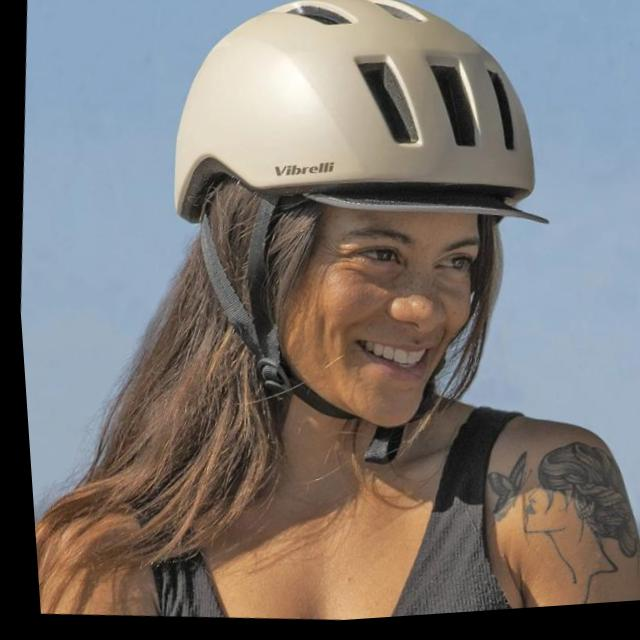helmet: (132, 0, 576, 496)
